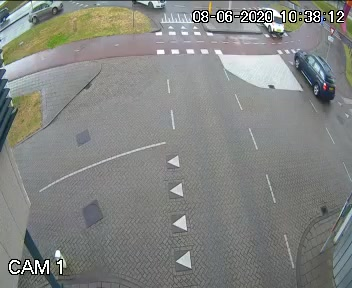car: (290, 47, 338, 113), (253, 6, 288, 41), (26, 1, 66, 23)
